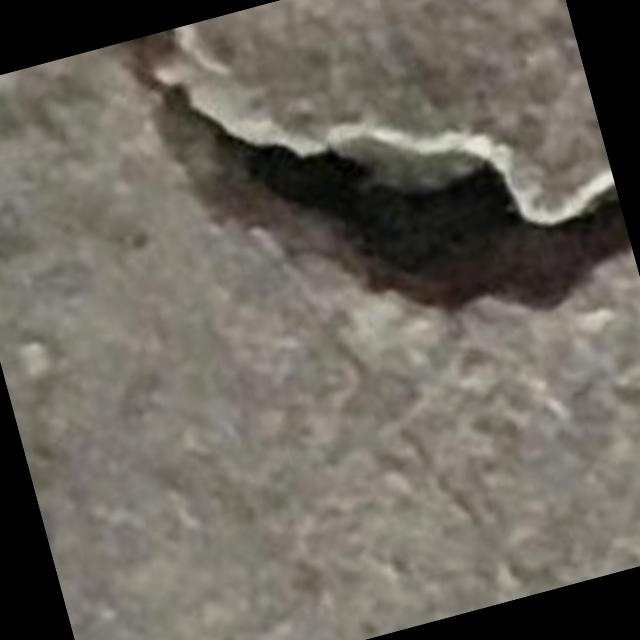crack: (119, 29, 631, 310)
